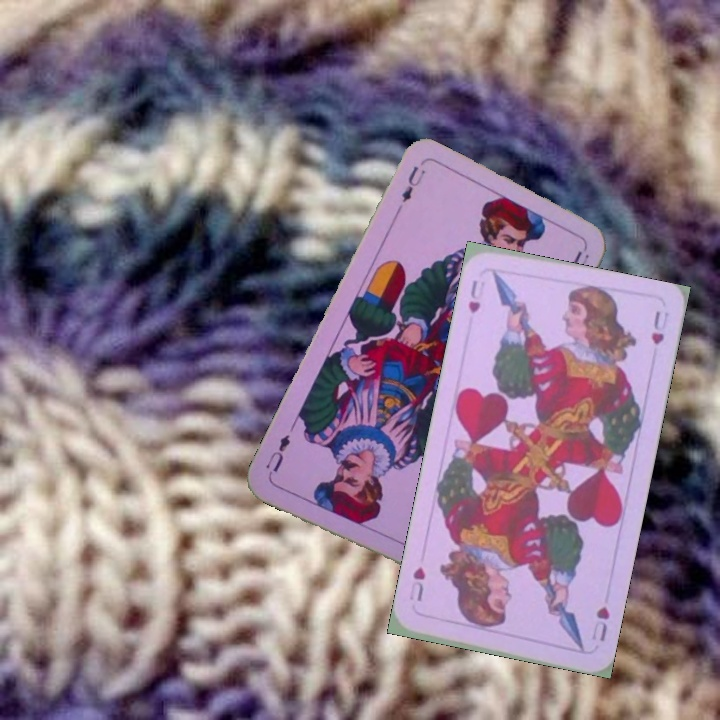EU: (398, 162, 428, 205)
HU: (587, 602, 612, 644), (464, 276, 488, 316)
